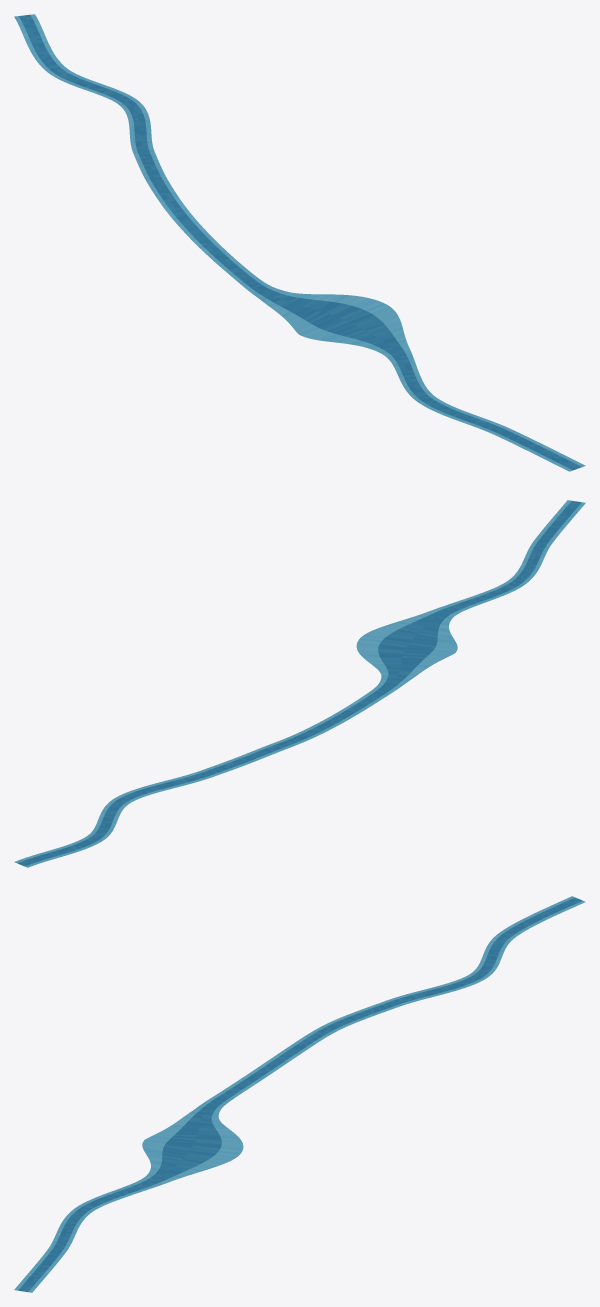
File: water_surface.glb
3 renders of one model, top to bottom at view 1: azimuth 30°, elevation 25°; view 2: azimuth 150°, elevation 25°; view 3: azimuth 330°, elevation 25°, orthographic. The views are drawn at different scales.
Parts seen in each view (by area): view 1: water_surface; view 2: water_surface; view 3: water_surface.
Boxes of the visible parts, left/top/right/bottom form: water_surface: left=14, top=14, right=585, bottom=471; water_surface: left=14, top=500, right=585, bottom=867; water_surface: left=14, top=896, right=585, bottom=1292.
Bounding box in the file's own units: 85.96 × 11.65 × 771.
1 material, 1 textured.
